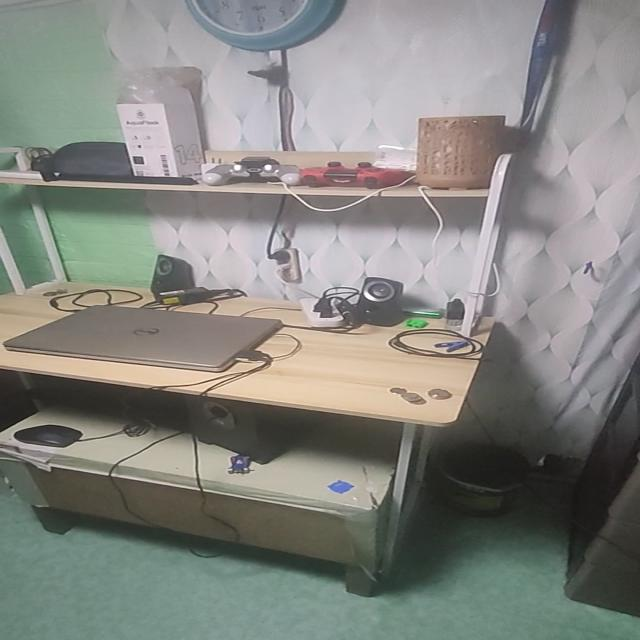table: (0, 277, 500, 599)
